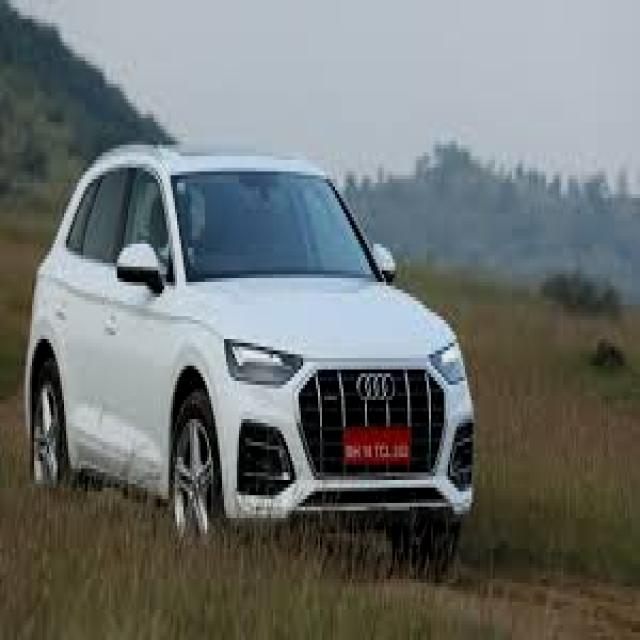SUV: (30, 148, 485, 582)
